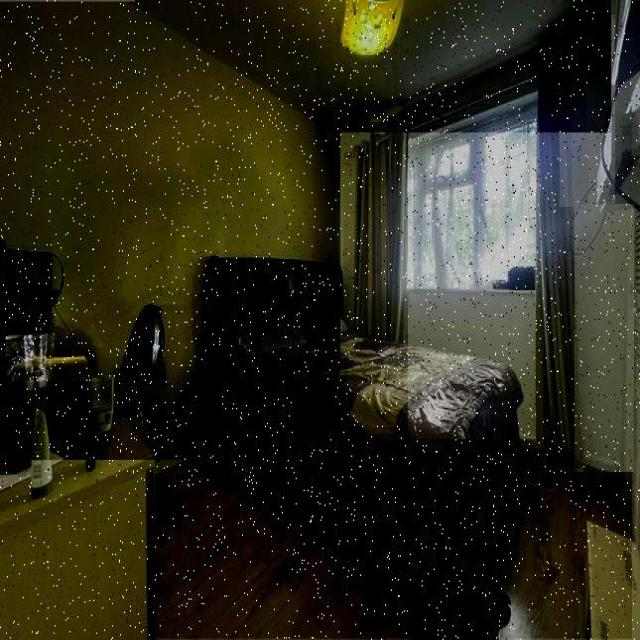Wall: (0, 2, 340, 460), (155, 450, 632, 639), (135, 0, 611, 132), (408, 291, 536, 439), (575, 204, 634, 472), (560, 15, 615, 207), (572, 190, 600, 250)
